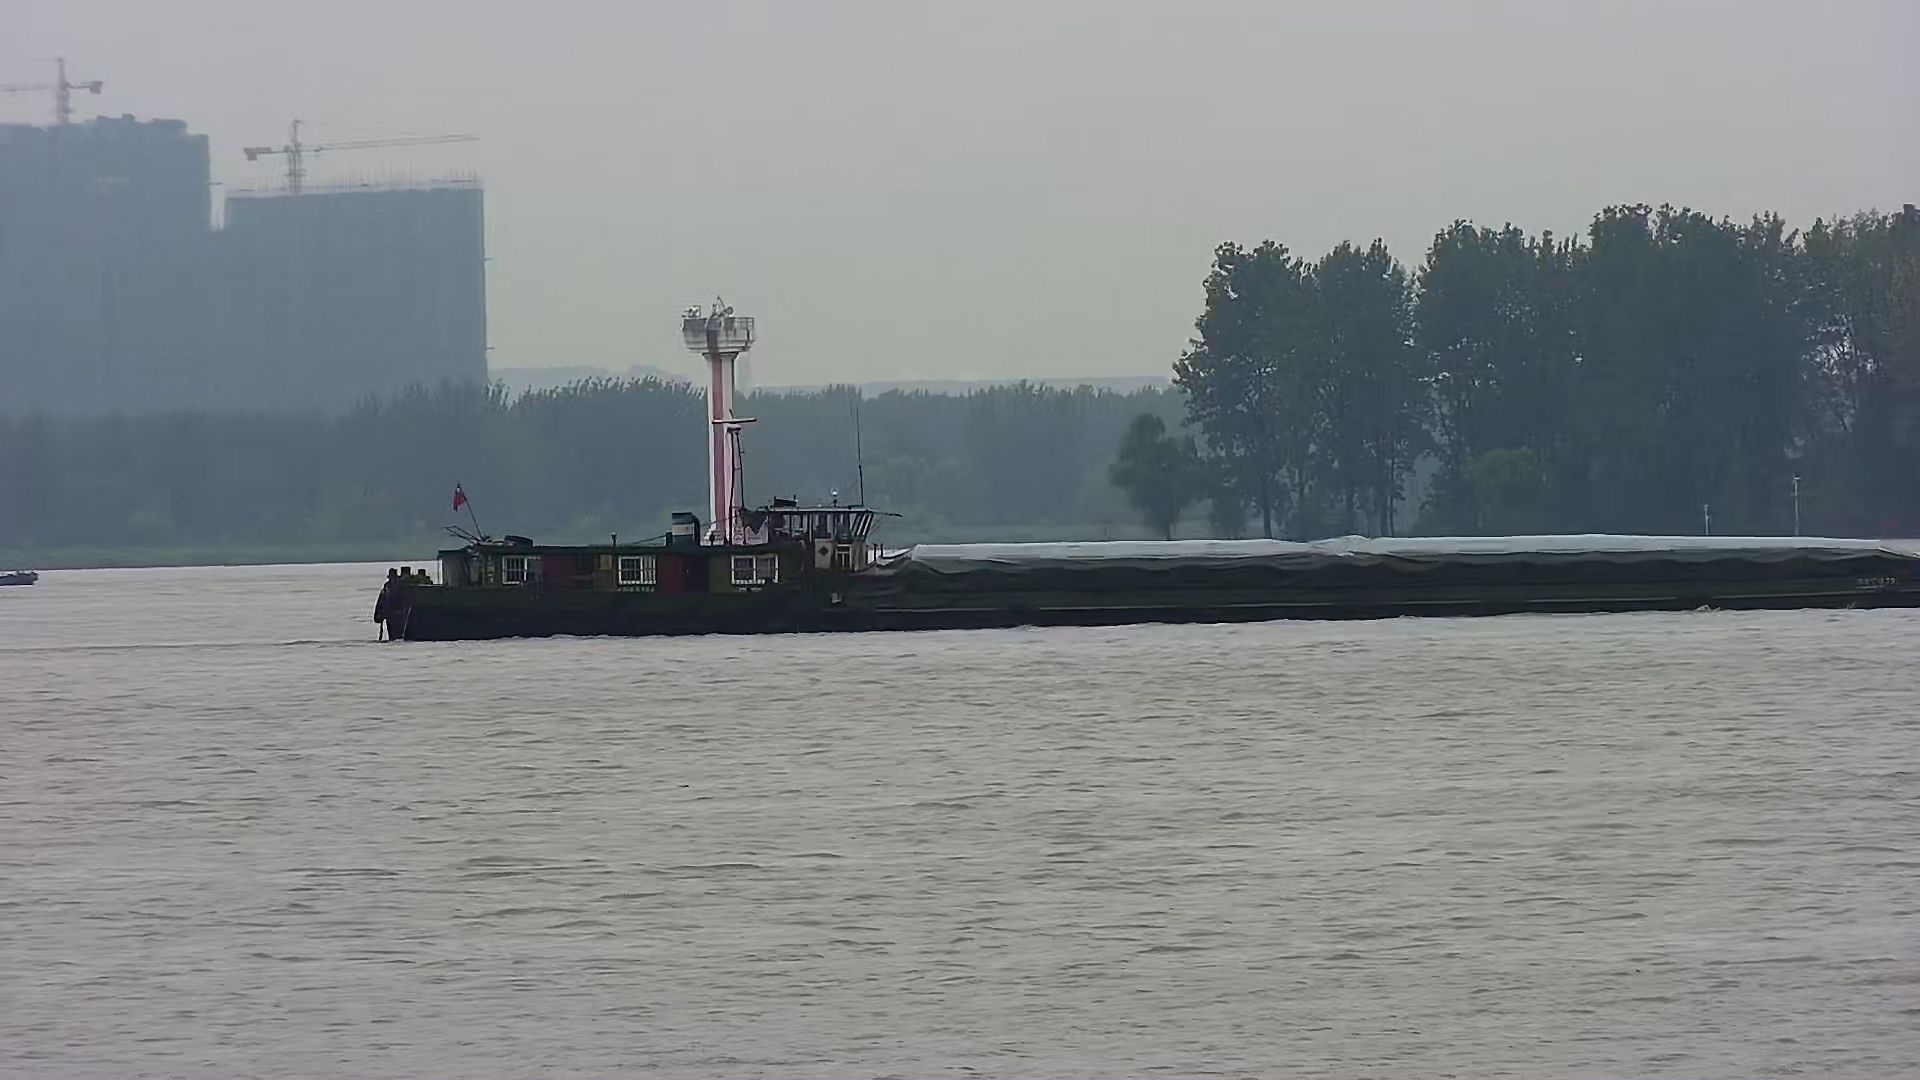boat: (1, 567, 40, 589)
platform: (680, 295, 760, 546)
ship: (367, 473, 1920, 646)
